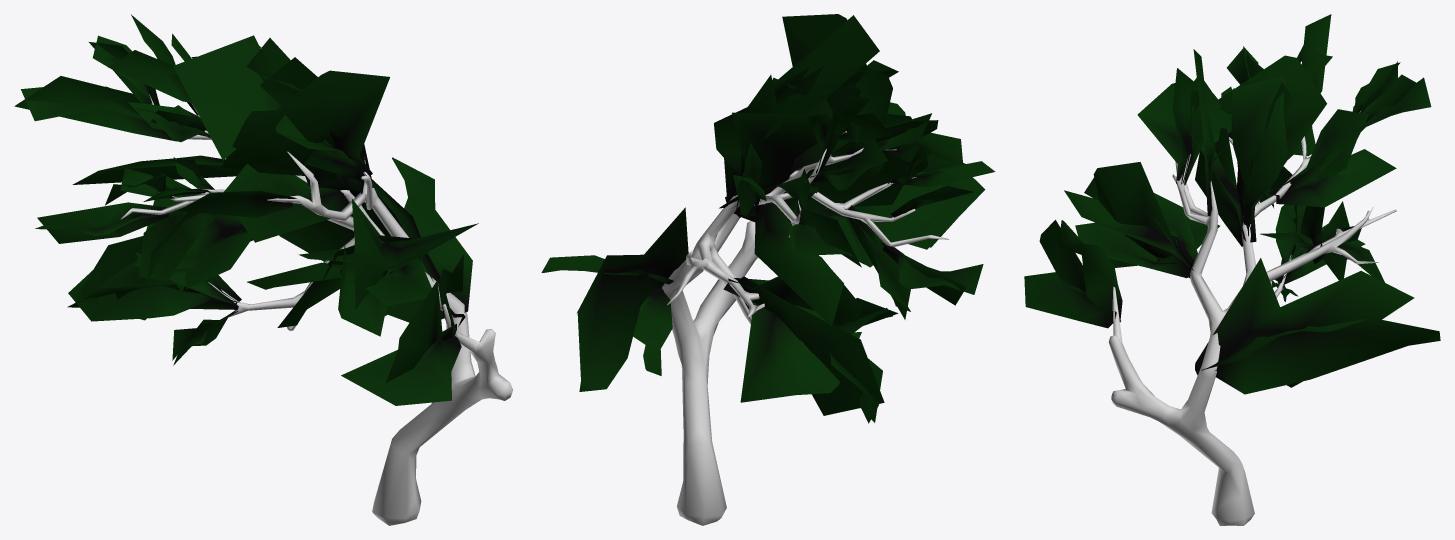
Rendered from DeadTreeCATAM_C.fbx.
The picture shows the model from 3 angles, left to right: view 1: azimuth 30°, elevation 25°; view 2: azimuth 150°, elevation 25°; view 3: azimuth 270°, elevation 25°; orthographic projection. The views are drawn at different scales.
Visible parts, largest first — view 1: DeadTreeCATAM_C_Leaves_LOD0, DeadTreeCATAM_C_Trunk_LOD0; view 2: DeadTreeCATAM_C_Leaves_LOD0, DeadTreeCATAM_C_Trunk_LOD0; view 3: DeadTreeCATAM_C_Leaves_LOD0, DeadTreeCATAM_C_Trunk_LOD0.
Boxes of the visible parts, x1,y1,x2,y2 form: DeadTreeCATAM_C_Leaves_LOD0: (14,14,478,405); DeadTreeCATAM_C_Trunk_LOD0: (120,94,512,525); DeadTreeCATAM_C_Leaves_LOD0: (541,14,995,423); DeadTreeCATAM_C_Trunk_LOD0: (662,131,948,525); DeadTreeCATAM_C_Leaves_LOD0: (1024,14,1440,394); DeadTreeCATAM_C_Trunk_LOD0: (1108,111,1396,525).
Size of what is drawn, in the model's own units: 2.93 by 3.5 by 3.11.
